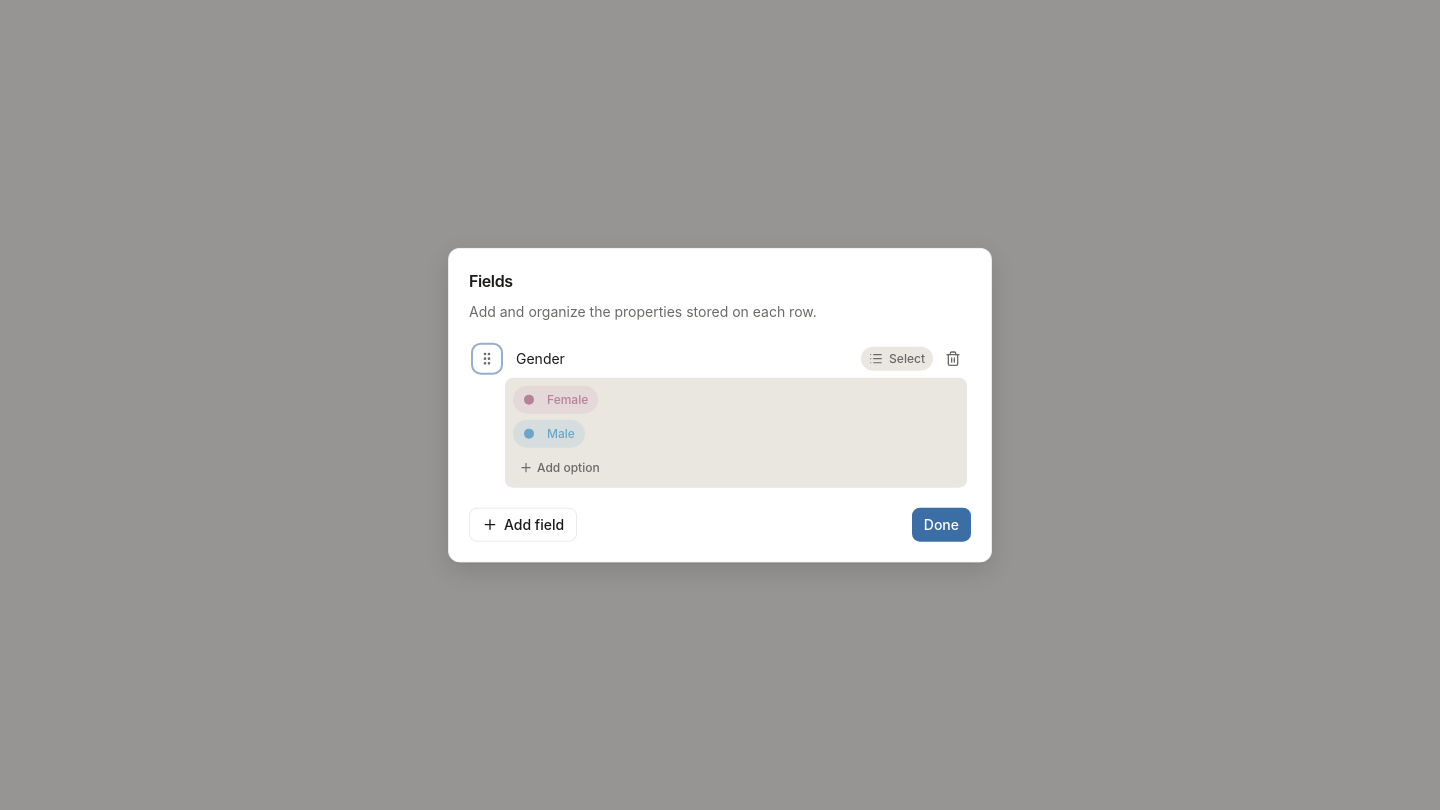
Test case: FieldManager › renames an option via expansive inline edit
Click the button with aria-label "Rename Female".
click(568, 399)  # box [543,389,592,409]
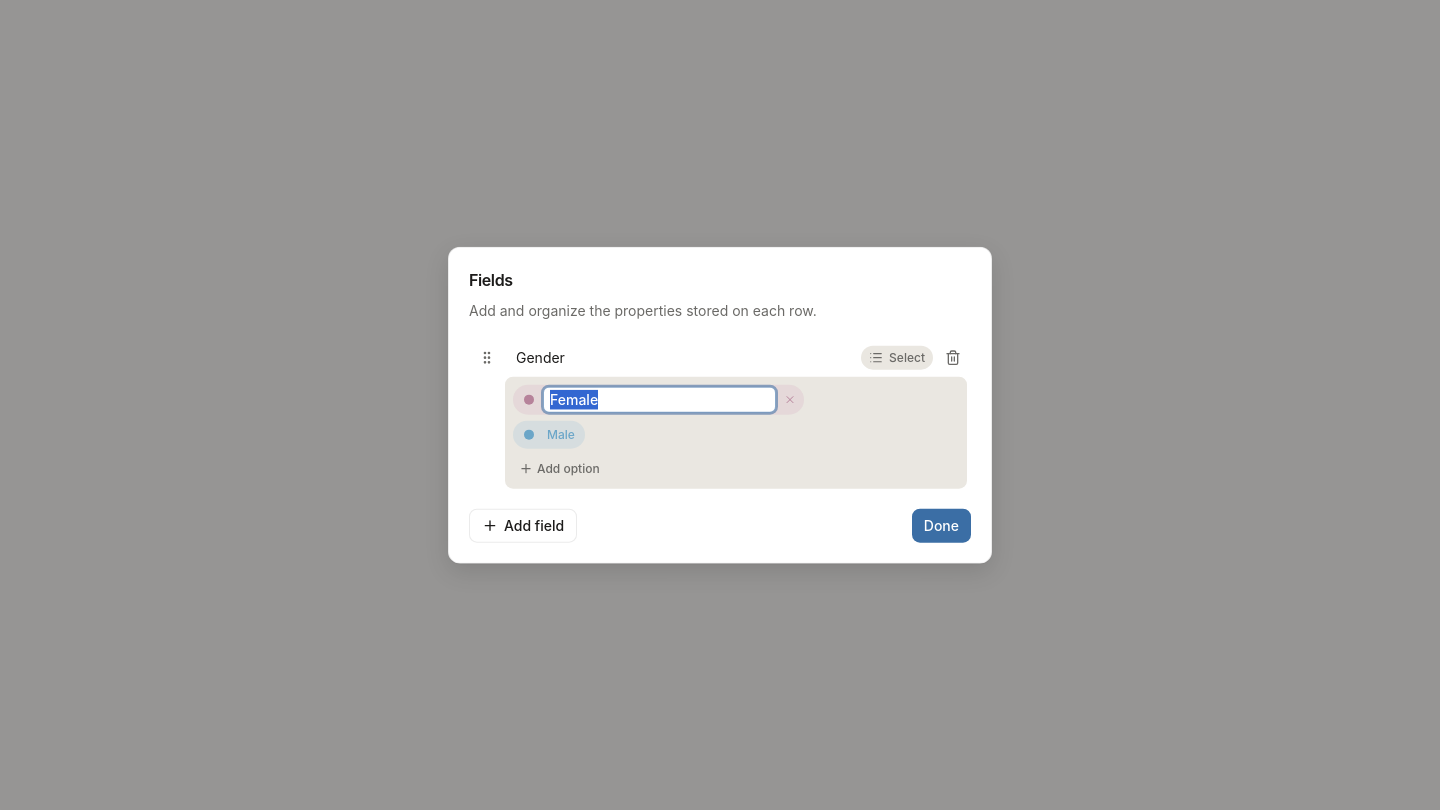
Replace the text in the field named "Rename Female" with "Woman" at [660, 399], box [543,386,776,412]
Then press Enter
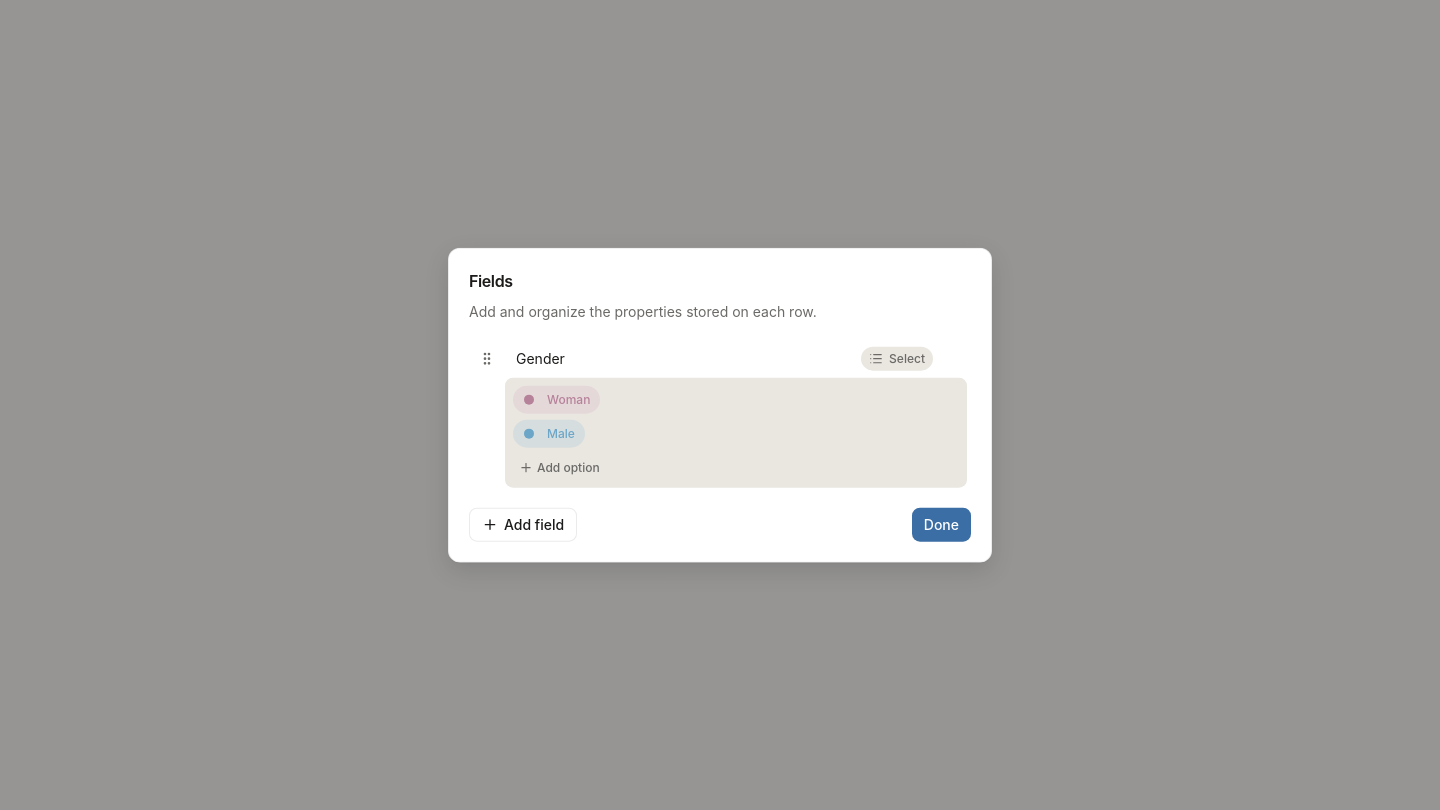
expect the button "Woman" is shown: met, box [543,389,594,409]
